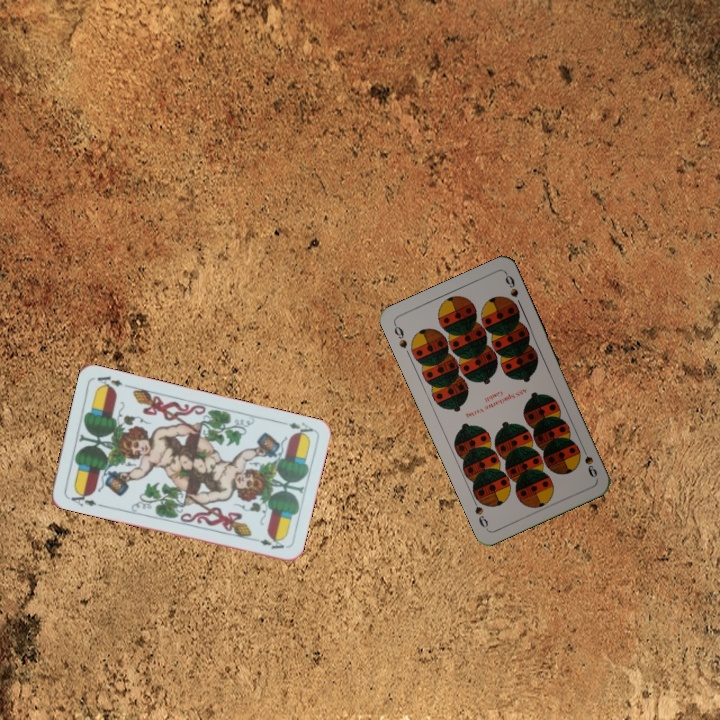EA: (276, 417, 316, 440), (64, 487, 99, 509)
S9: (577, 442, 600, 480), (390, 320, 410, 351)
